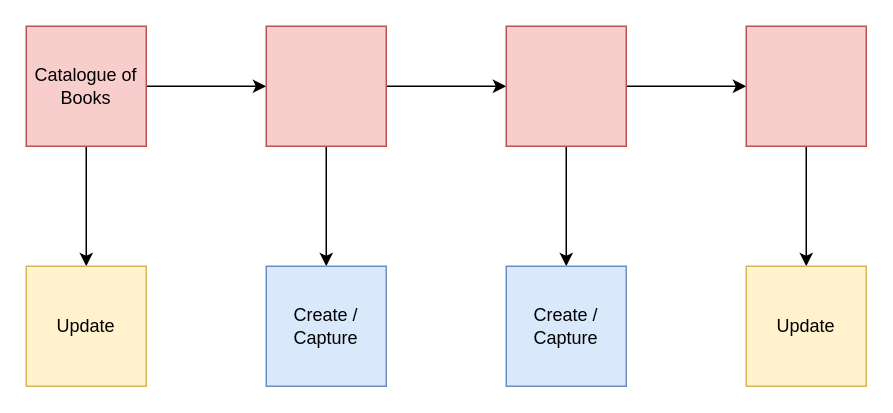
This 893x413 diagram has some shape labels left out. Here are the shapes that lost their labels. From the top down, the centre of each, then its label:
At point (325, 85): "Payments".
At point (565, 85): "Shipping Details".
At point (805, 85): "Prices".
